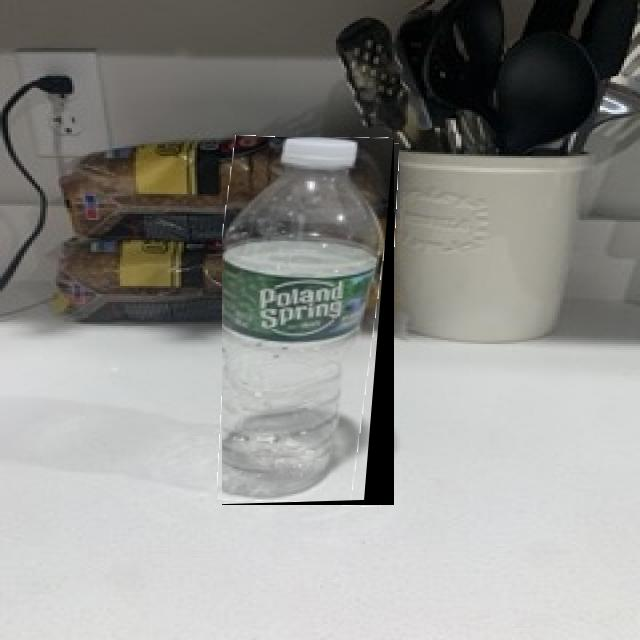water_bottle: (222, 137, 394, 505)
